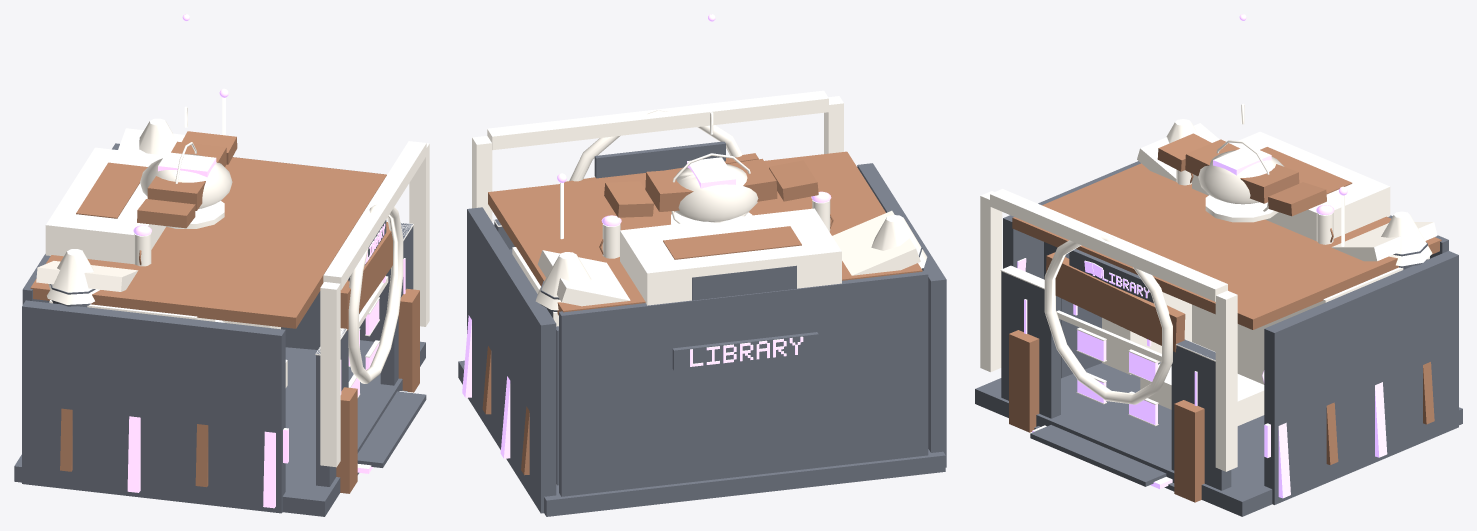
The model's file is library.glb.
The picture shows the model from 3 angles, left to right: view 1: azimuth 30°, elevation 25°; view 2: azimuth 150°, elevation 25°; view 3: azimuth 270°, elevation 25°; orthographic projection. The views are drawn at different scales.
Visible parts, largest first — view 1: library:near:merged, library:far:surface:0, library:city-identity:great-book; view 2: library:near:merged, library:far:surface:0; view 3: library:near:merged, library:far:surface:0, library:city-identity:great-book.
Boxes of the visible parts, x1,y1,x2,y2 form: library:near:merged: [14, 14, 429, 516]; library:far:surface:0: [45, 147, 280, 329]; library:city-identity:great-book: [340, 222, 392, 330]; library:near:merged: [458, 14, 946, 516]; library:far:surface:0: [512, 208, 841, 326]; library:near:merged: [975, 14, 1462, 516]; library:far:surface:0: [1102, 131, 1429, 384]; library:city-identity:great-book: [1046, 252, 1185, 352].
Bounding box in the file's own units: 20.65 × 18.18 × 20.65.
